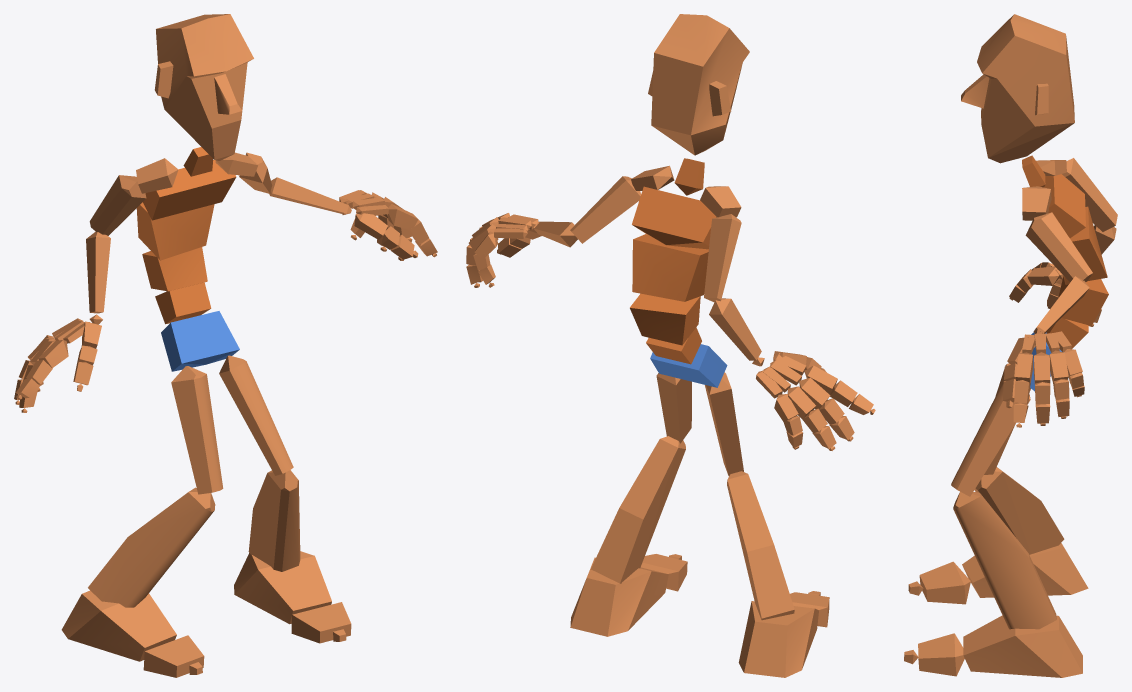
The model's file is prueba28.obj.
The picture shows the model from 3 angles, left to right: view 1: azimuth 30°, elevation 25°; view 2: azimuth 150°, elevation 25°; view 3: azimuth 270°, elevation 25°; orthographic projection.
Parts seen in each view (by area): view 1: BOPED_Head, BOPED_R_leg, BOPED_R_foot, BOPED_R_foot01, BOPED_L_leg, BOPED_R_legup, BOPED_L_legup, Bone01, Bone04, Bone05, Bone03, BOPED_R_arm_upper (+8 smaller); view 2: BOPED_Head, BOPED_L_leg, BOPED_R_leg, BOPED_R_foot01, BOPED_R_foot, Bone04, Bone05, Bone03, BOPED_R_arm_upper, BOPED_R_legup, BOPED_L_arm_upper, BOPED_L_legup (+9 smaller); view 3: BOPED_Head, BOPED_L_leg, BOPED_R_foot01, BOPED_R_leg, BOPED_L_legup, BOPED_R_foot, BOPED_L_arm_upper, Bone05, BOPED_R_foot_toe01, BOPED_R_foot_toe04, BOPED_R_arm_upper, Bone04 (+15 smaller).
Boxes of the visible parts, x1=… form: BOPED_Head: x1=154, y1=14, x2=253, y2=160; BOPED_R_leg: x1=88, y1=487, x2=215, y2=607; BOPED_R_foot: x1=61, y1=590, x2=176, y2=661; BOPED_R_foot01: x1=234, y1=551, x2=331, y2=624; BOPED_L_leg: x1=248, y1=470, x2=300, y2=571; BOPED_R_legup: x1=171, y1=366, x2=223, y2=494; BOPED_L_legup: x1=219, y1=355, x2=293, y2=475; Bone01: x1=161, y1=311, x2=239, y2=371; Bone04: x1=136, y1=202, x2=214, y2=260; Bone05: x1=143, y1=160, x2=236, y2=220; Bone03: x1=142, y1=247, x2=207, y2=291; BOPED_R_arm_upper: x1=89, y1=175, x2=146, y2=235; BOPED_Head: x1=648, y1=14, x2=749, y2=155; BOPED_L_leg: x1=591, y1=436, x2=685, y2=583; BOPED_R_leg: x1=727, y1=471, x2=794, y2=620; BOPED_R_foot01: x1=570, y1=557, x2=668, y2=636; BOPED_R_foot: x1=738, y1=601, x2=818, y2=677; Bone04: x1=632, y1=234, x2=708, y2=301; Bone05: x1=632, y1=186, x2=716, y2=249; Bone03: x1=630, y1=293, x2=700, y2=345; BOPED_R_arm_upper: x1=704, y1=214, x2=741, y2=302; BOPED_R_legup: x1=705, y1=372, x2=743, y2=475; BOPED_L_arm_upper: x1=570, y1=176, x2=640, y2=243; BOPED_L_legup: x1=656, y1=373, x2=691, y2=443; BOPED_Head: x1=961, y1=14, x2=1074, y2=163; BOPED_L_leg: x1=953, y1=491, x2=1056, y2=629; BOPED_R_foot01: x1=963, y1=615, x2=1082, y2=677; BOPED_R_leg: x1=974, y1=467, x2=1064, y2=554; BOPED_L_legup: x1=951, y1=381, x2=1030, y2=496; BOPED_R_foot: x1=962, y1=543, x2=1088, y2=597; BOPED_L_arm_upper: x1=1025, y1=212, x2=1092, y2=282; Bone05: x1=1044, y1=174, x2=1085, y2=237; BOPED_R_foot_toe01: x1=919, y1=561, x2=970, y2=604; BOPED_R_foot_toe04: x1=918, y1=633, x2=964, y2=676; BOPED_R_arm_upper: x1=1062, y1=158, x2=1117, y2=231; Bone04: x1=1063, y1=206, x2=1107, y2=284.
Size of the model in its own units: 130 by 184 by 58.95.
